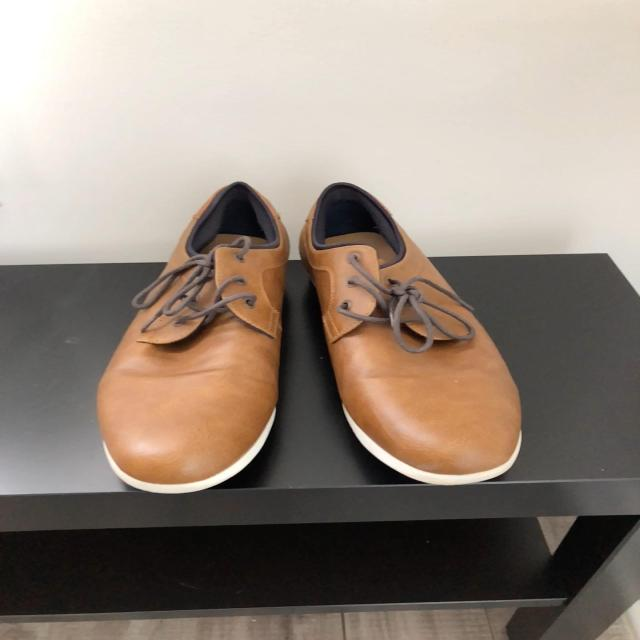shoe: (298, 183, 524, 487), (152, 182, 290, 494)
